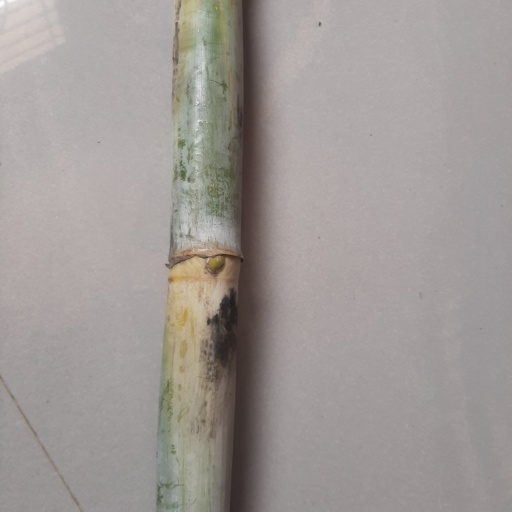Bud: (203, 254, 225, 278)
